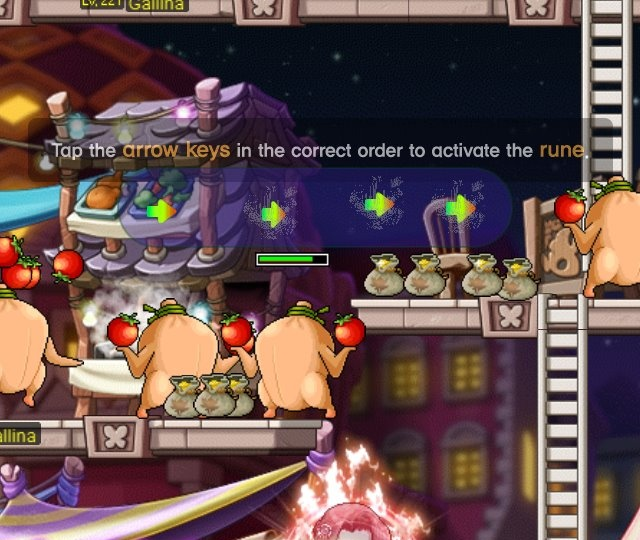rune_box: (111, 158, 522, 255)
